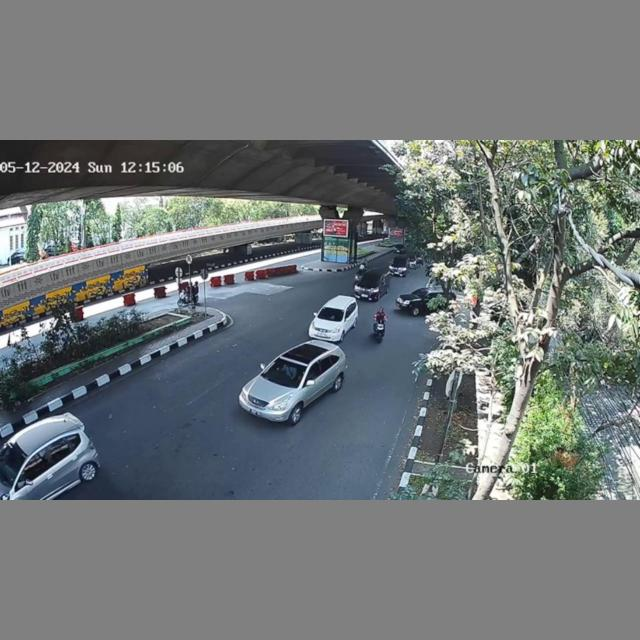windshield: (262, 358, 307, 387), (318, 307, 342, 325)
